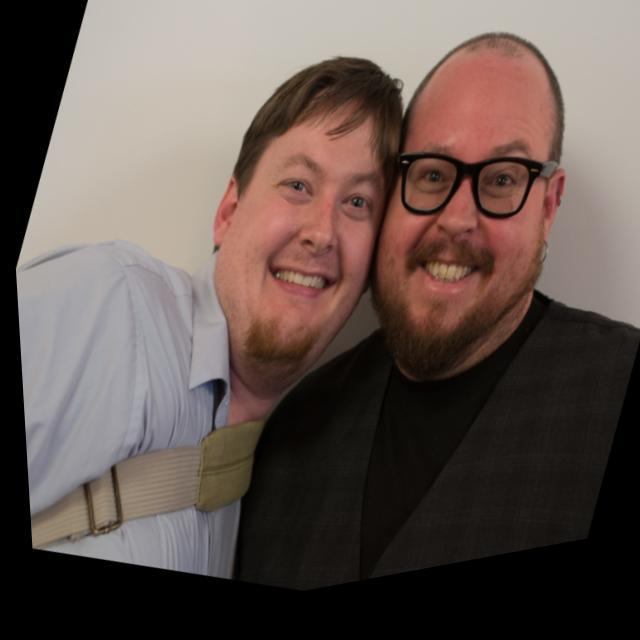Nonhelmet: (370, 30, 569, 379), (209, 53, 405, 369)
